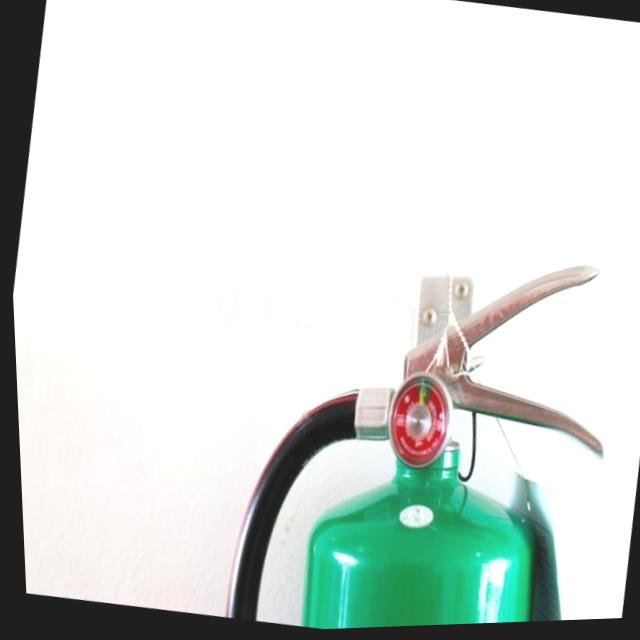FireExtinguisher: (195, 209, 638, 635)
